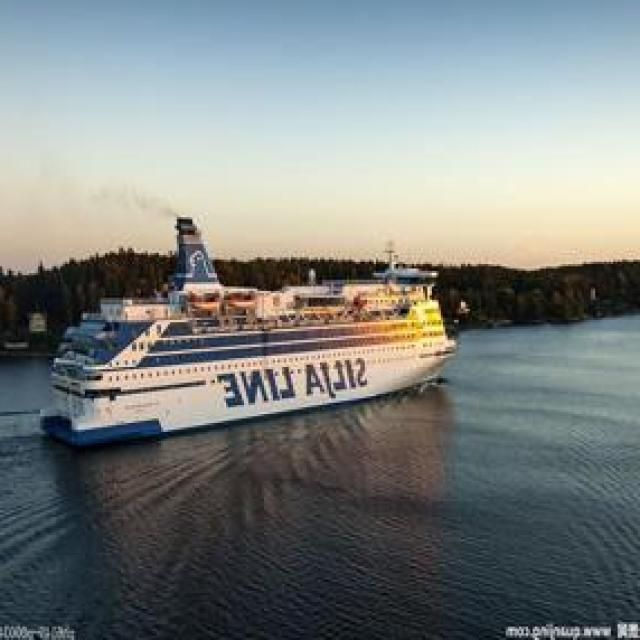passenger ship: (32, 237, 467, 449)
